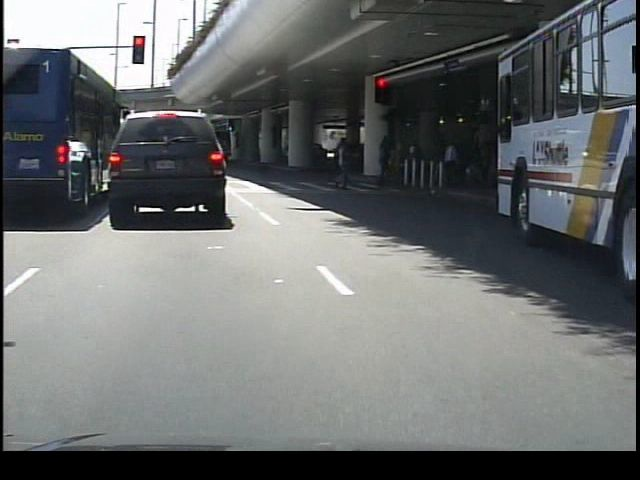person: (372, 135, 399, 190), (438, 137, 464, 194), (330, 133, 355, 192)
